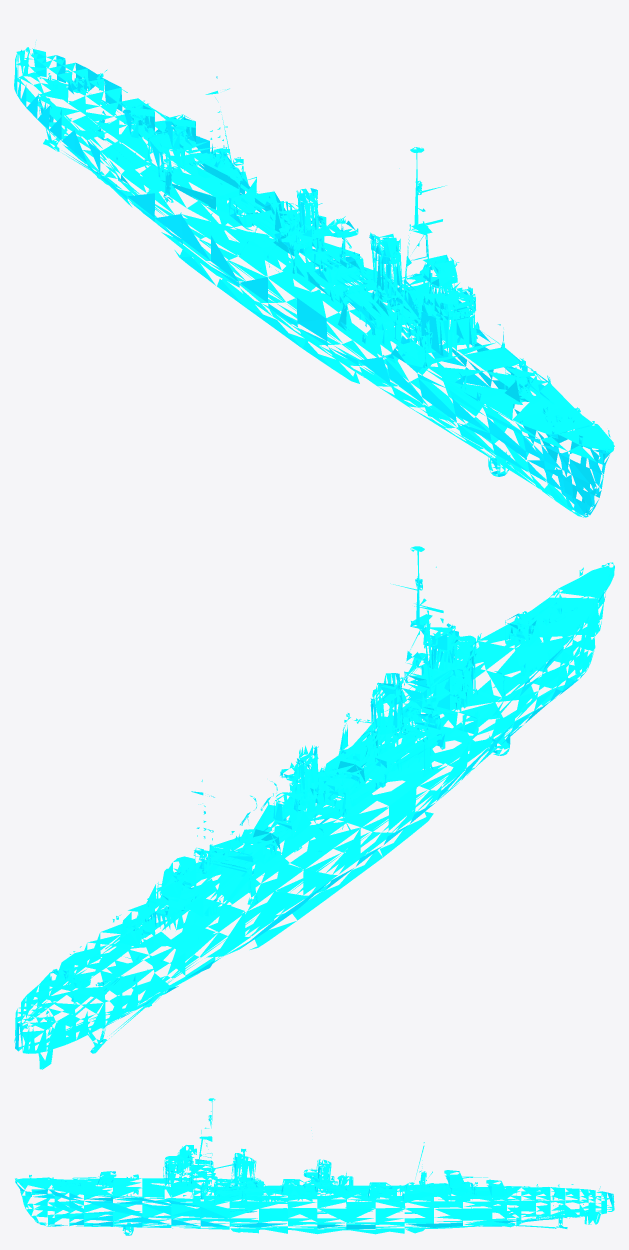
File: Harekaze.glb
3 renders of one model, top to bottom at view 1: azimuth 30°, elevation 25°; view 2: azimuth 150°, elevation 25°; view 3: azimuth 270°, elevation 25°, orthographic. The views are drawn at different scales.
Bounding box in the file's own units: 0.7266 × 1.98 × 7.9.
